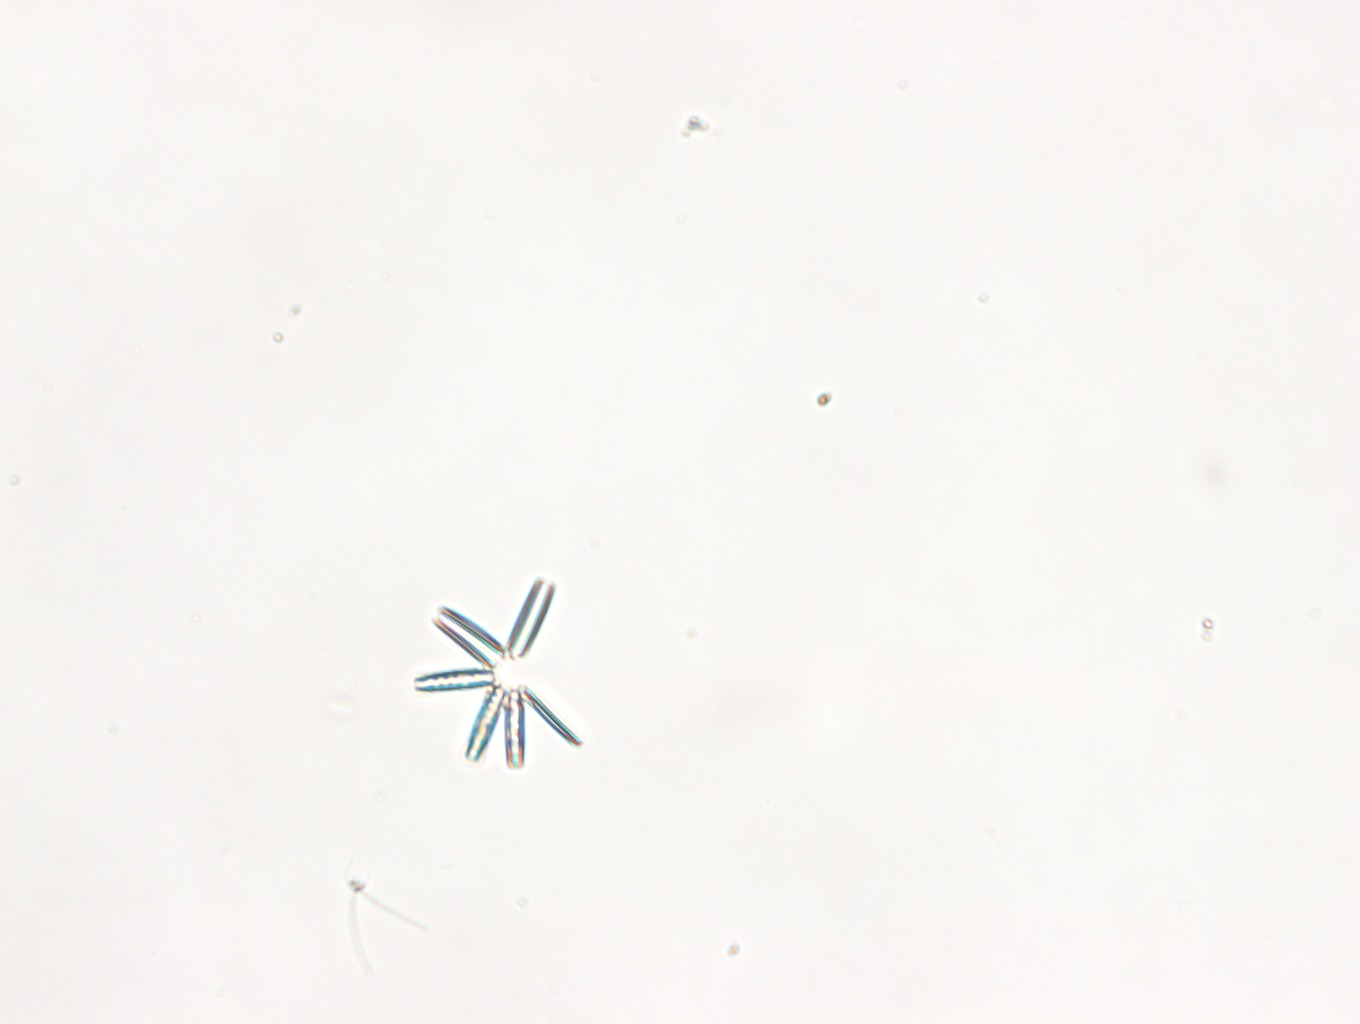thalassionema nitzschioides: (414, 575, 584, 767)
